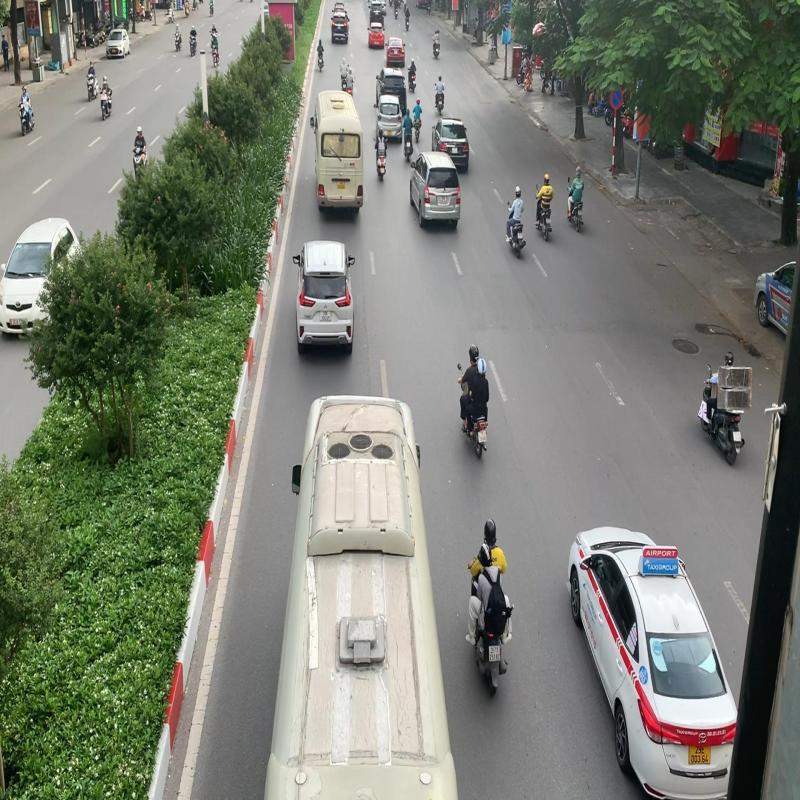helmet: (484, 518, 497, 540), (479, 543, 491, 562)
licenseplate: (489, 646, 500, 662)
motorcyclist: (465, 515, 516, 698)
